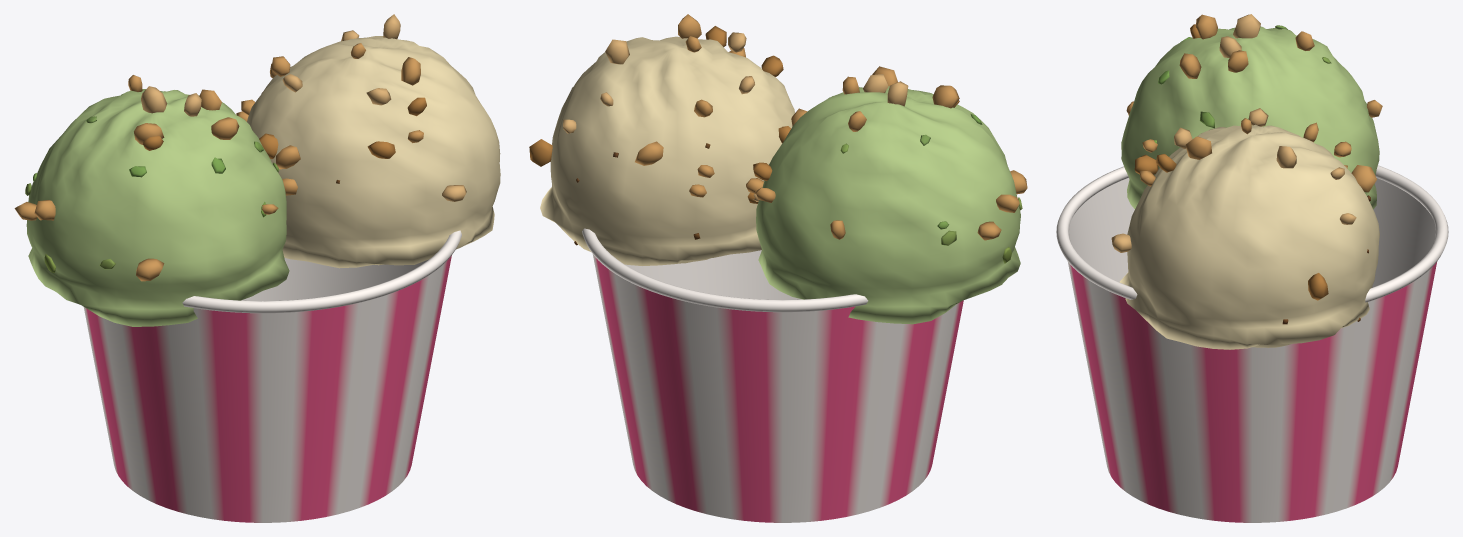
The model's file is sorvete-copinho.glb.
3 renders of one model, left to right at view 1: azimuth 30°, elevation 25°; view 2: azimuth 150°, elevation 25°; view 3: azimuth 270°, elevation 25°, orthographic. The views are drawn at different scales.
Visible parts, largest first — view 1: copinho, bola_0_pistache, bola_1_creme, amendoim_0_0, amendoim_1_0; view 2: copinho, bola_0_pistache, bola_1_creme, amendoim_1_0, amendoim_0_0; view 3: copinho, bola_1_creme, bola_0_pistache, amendoim_1_0, amendoim_0_0.
Part boxes in pixels (box(x1,y1,x2,y2)): copinho: box(83, 230, 461, 522); bola_0_pistache: box(25, 89, 289, 326); bola_1_creme: box(247, 36, 500, 268); amendoim_0_0: box(14, 75, 297, 281); amendoim_1_0: box(236, 14, 466, 201); copinho: box(582, 228, 963, 522); bola_0_pistache: box(756, 86, 1022, 324); bola_1_creme: box(540, 36, 794, 265); amendoim_1_0: box(529, 14, 807, 201); amendoim_0_0: box(746, 66, 1027, 240); copinho: box(1056, 165, 1448, 522); bola_1_creme: box(1119, 124, 1379, 349); bola_0_pistache: box(1121, 25, 1379, 209); amendoim_1_0: box(1111, 108, 1376, 300); amendoim_0_0: box(1126, 14, 1382, 157).
Bounding box in the file's own units: 0.1045 × 0.0891 × 0.0806.
